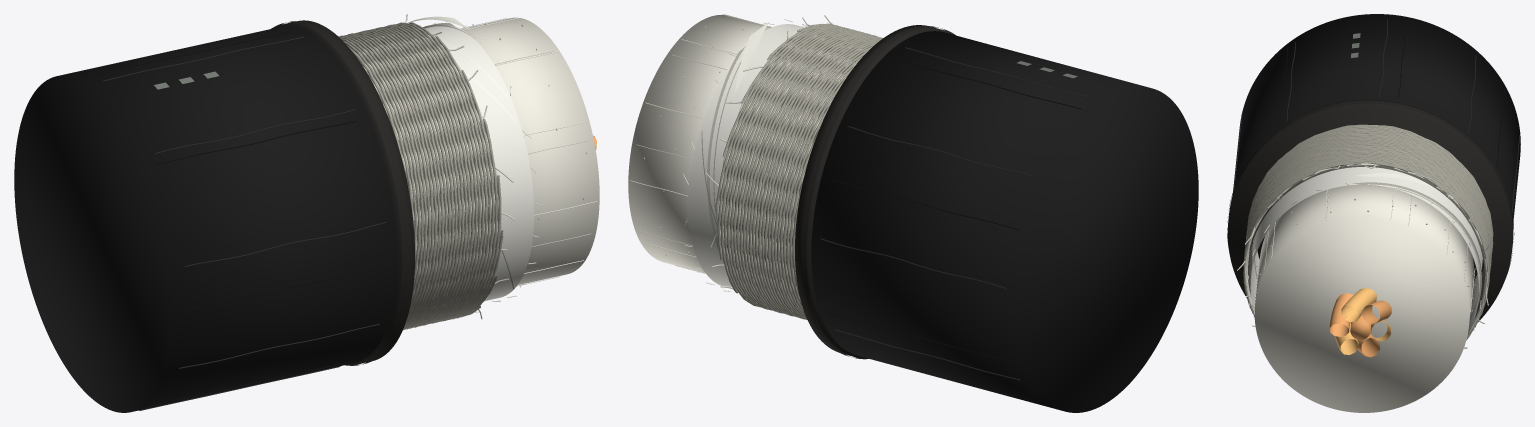
Rendered from rf-lmr600uf-macro.glb.
3 renders of one model, left to right at view 1: azimuth 30°, elevation 25°; view 2: azimuth 150°, elevation 25°; view 3: azimuth 270°, elevation 25°, orthographic. The views are drawn at different scales.
Parts seen in each view (by area): view 1: macro jacket body, macro dielectric exposed core, continuous foil sleeve under braid, thick jacket cut wall, shadow seen through braid windows, rounded jacket cut lip, macro braid shadow carrier 05 strand 1, macro braid shadow carrier 06 strand 1, macro braid shadow carrier 07 strand 1, macro braid shadow carrier 04 strand 1, macro braid shadow carrier 03 strand 1, macro braid shadow carrier 02 strand 1 (+20 smaller); view 2: macro jacket body, macro dielectric exposed core, continuous foil sleeve under braid, thick jacket cut wall, rounded jacket cut lip, shadow seen through braid windows, macro braid shadow carrier 01 strand 1, macro braid shadow carrier 16 strand 1, macro braid shadow carrier 15 strand 1, macro braid shadow carrier 02 strand 1, macro braid shadow carrier 14 strand 1, macro braid shadow carrier 13 strand 1 (+18 smaller); view 3: macro dielectric exposed core, macro jacket body, thick jacket cut wall, continuous foil sleeve under braid, shadow seen through braid windows, rounded jacket cut lip, raised foil lap seam, 7 strand conductor continuous twist 06, macro braid shadow carrier 03 strand 3, macro braid shadow carrier 02 strand 3, 7 strand conductor continuous twist 07, macro braid shadow carrier 11 strand 3 (+43 smaller).
Part boxes in pixels (x1,y1,x2,y2): macro jacket body: (14, 26, 397, 412); macro dielectric exposed core: (461, 17, 599, 284); continuous foil sleeve under braid: (425, 25, 534, 301); thick jacket cut wall: (271, 20, 414, 365); shadow seen through braid windows: (361, 40, 499, 304); rounded jacket cut lip: (275, 21, 407, 365); macro braid shadow carrier 05 strand 1: (348, 23, 484, 321); macro braid shadow carrier 06 strand 1: (354, 23, 487, 321); macro braid shadow carrier 07 strand 1: (351, 33, 490, 324); macro braid shadow carrier 04 strand 1: (340, 23, 480, 321); macro braid shadow carrier 03 strand 1: (343, 24, 477, 318); macro braid shadow carrier 02 strand 1: (339, 25, 474, 325); macro jacket body: (811, 31, 1198, 412); macro dielectric exposed core: (628, 14, 770, 273); continuous foil sleeve under braid: (688, 24, 804, 289); thick jacket cut wall: (795, 25, 955, 358); rounded jacket cut lip: (801, 26, 953, 359); shadow seen through braid windows: (719, 49, 847, 285); macro braid shadow carrier 01 strand 1: (721, 28, 870, 318); macro braid shadow carrier 16 strand 1: (724, 29, 864, 314); macro braid shadow carrier 15 strand 1: (727, 31, 859, 317); macro braid shadow carrier 02 strand 1: (718, 28, 874, 314); macro braid shadow carrier 14 strand 1: (730, 31, 863, 318); macro braid shadow carrier 13 strand 1: (733, 32, 856, 315); macro dielectric exposed core: (1254, 184, 1474, 412); macro jacket body: (1232, 14, 1520, 223); thick jacket cut wall: (1227, 100, 1513, 321); continuous foil sleeve under braid: (1250, 167, 1482, 334); shadow seen through braid windows: (1248, 165, 1485, 319); rounded jacket cut lip: (1227, 100, 1514, 274); raised foil lap seam: (1252, 182, 1481, 320); 7 strand conductor continuous twist 06: (1341, 288, 1376, 322); macro braid shadow carrier 03 strand 3: (1246, 136, 1491, 267); macro braid shadow carrier 02 strand 3: (1250, 136, 1489, 310); 7 strand conductor continuous twist 07: (1329, 293, 1353, 336); macro braid shadow carrier 11 strand 3: (1243, 126, 1492, 317).
Size of the model in its own units: 6.58 by 4.12 by 4.21.
